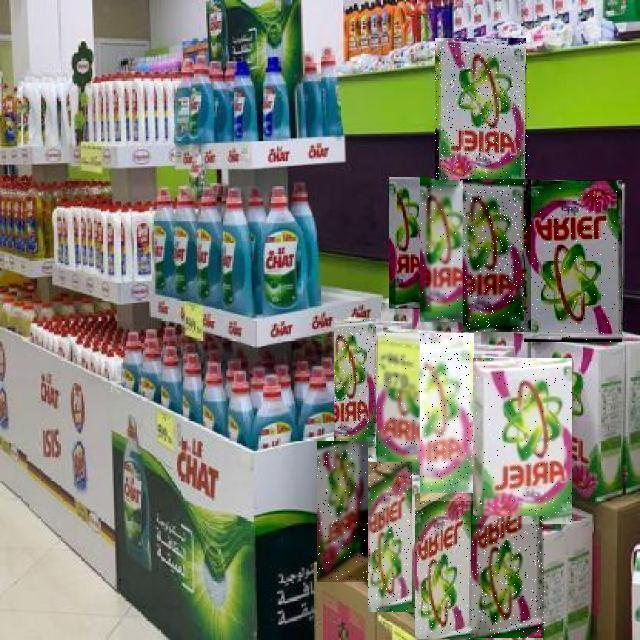Detergent: (473, 358, 572, 524), (524, 180, 622, 342), (436, 38, 530, 182), (463, 179, 531, 332), (421, 333, 475, 501), (472, 517, 546, 639), (415, 493, 473, 639), (420, 181, 478, 323), (317, 442, 368, 584), (378, 333, 428, 475), (368, 462, 412, 612), (335, 319, 377, 458), (389, 178, 431, 312)
